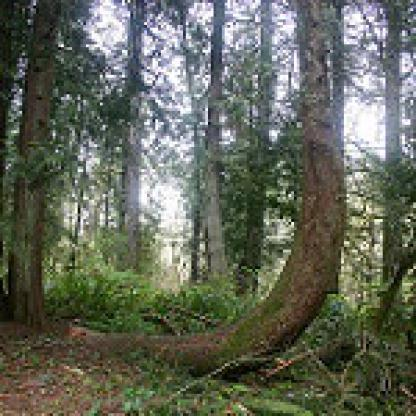trunk: (2, 0, 67, 328), (288, 0, 350, 294), (236, 0, 274, 297), (374, 0, 408, 300), (111, 0, 147, 269), (205, 0, 225, 291)
